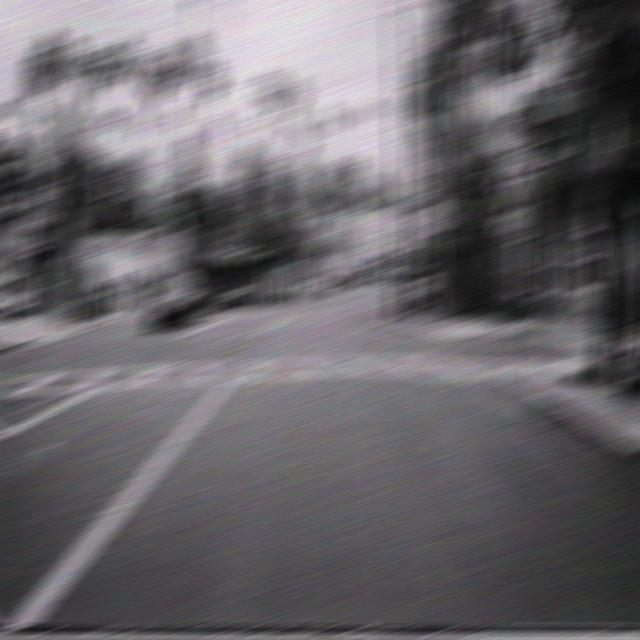pedestrianCrossing: (490, 153, 528, 210)
speedLimit25: (424, 202, 447, 232)
